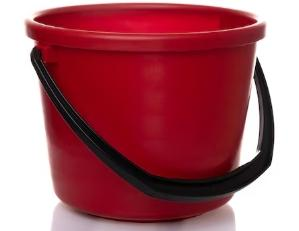SEAU: (33, 0, 278, 231)
